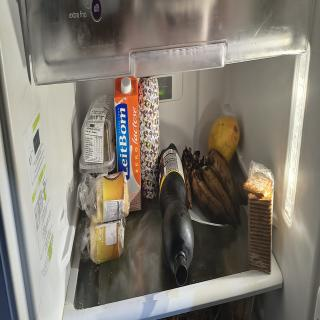Milk: (111, 82, 143, 228)
beverage: (155, 138, 191, 292)
food-box: (243, 158, 277, 282), (78, 166, 132, 226), (80, 87, 116, 169), (77, 221, 124, 258)
fruit: (200, 112, 245, 156)
